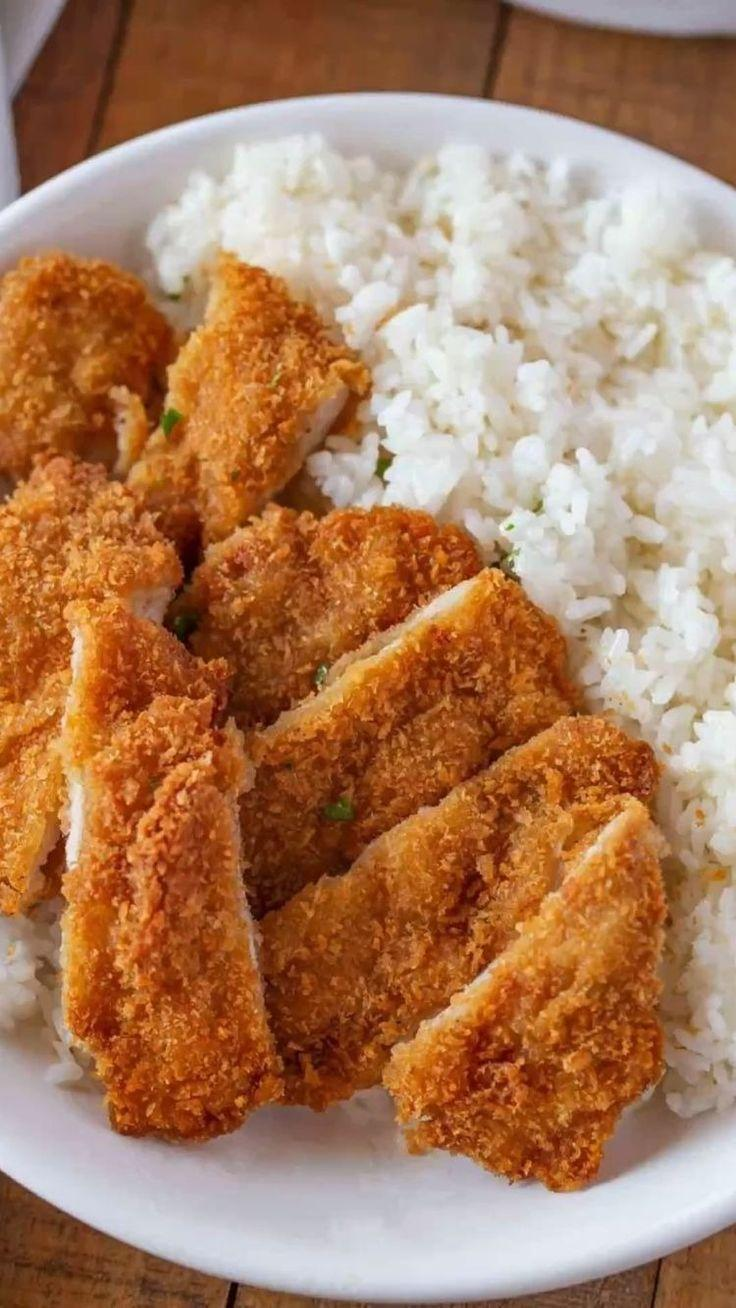daging: (50, 567, 508, 1015)
makanan_berpati: (413, 228, 703, 501)
